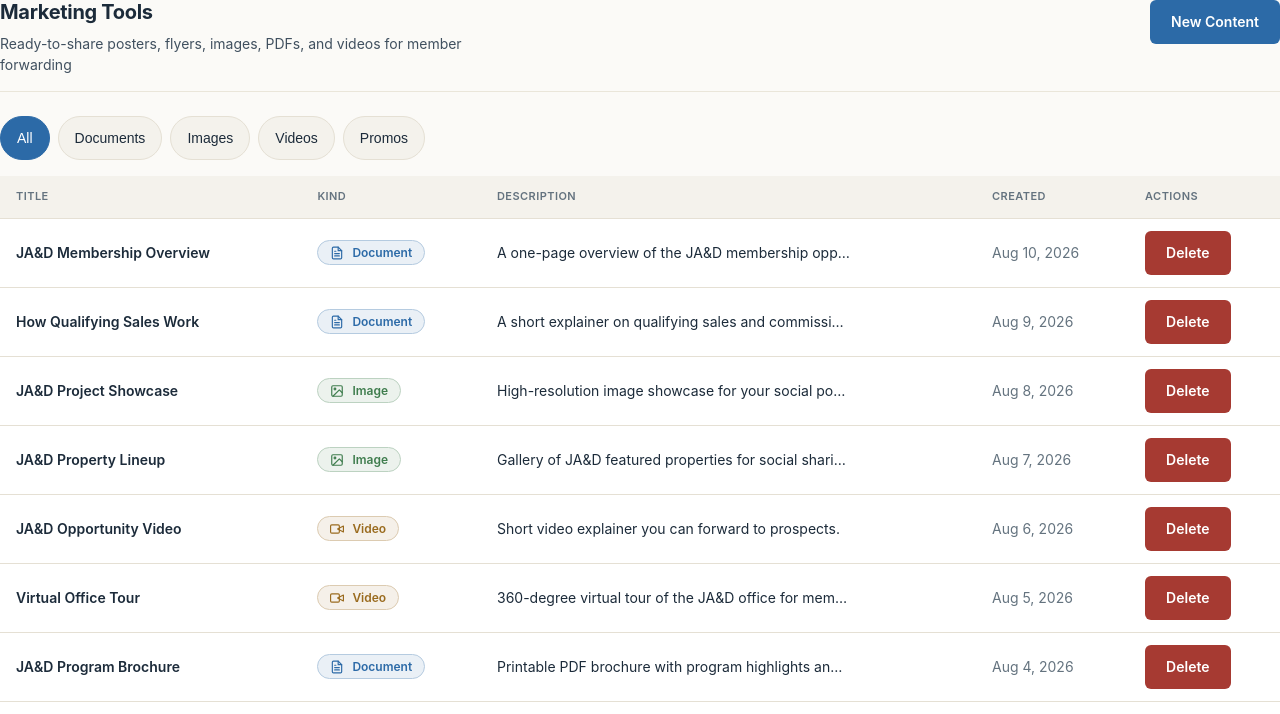
Test case: ContentPage › filters by kind
Expected: the link "JA&D Membership Overview" is shown, x1=16 y1=244 x2=210 y2=261
Step 1. Click the button "Images" → (210, 138), box x1=170 y1=116 x2=250 y2=160
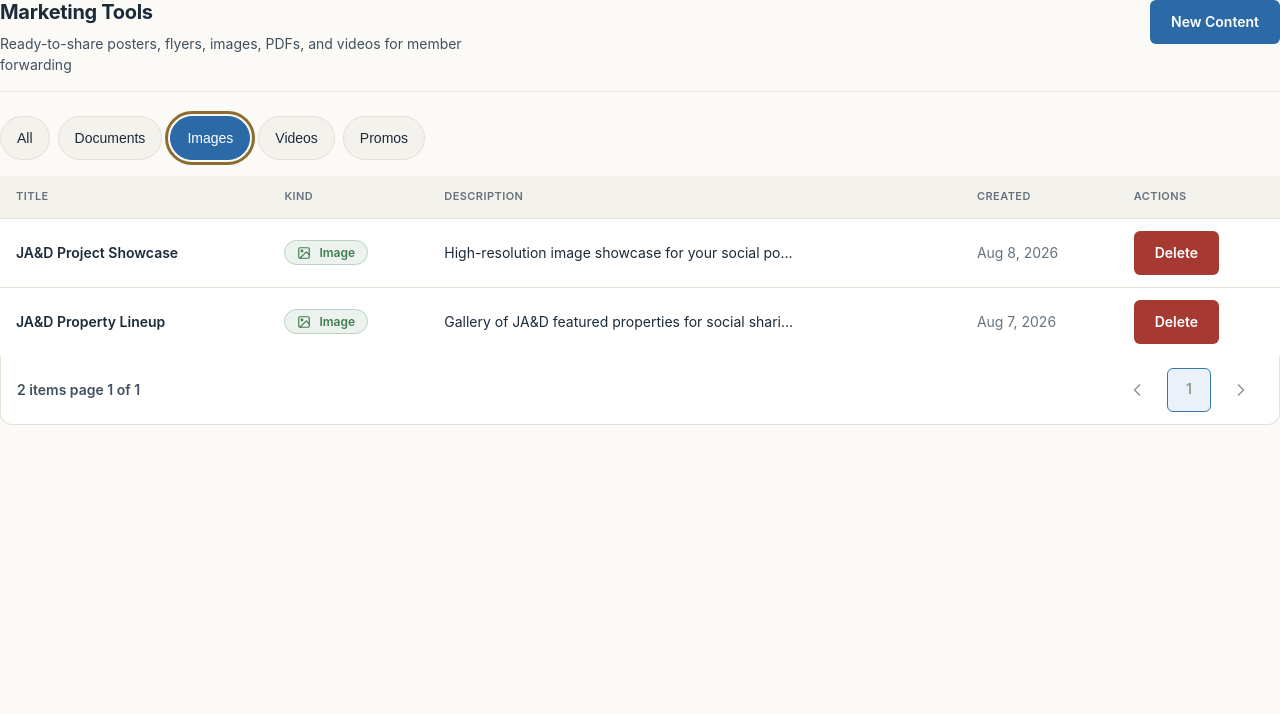
Expected: the link "JA&D Project Showcase" is shown, x1=16 y1=244 x2=178 y2=261
Expected: the link "JA&D Opportunity Video" is gone
Step 2. Click the button "All" → (25, 138), box x1=0 y1=116 x2=50 y2=160
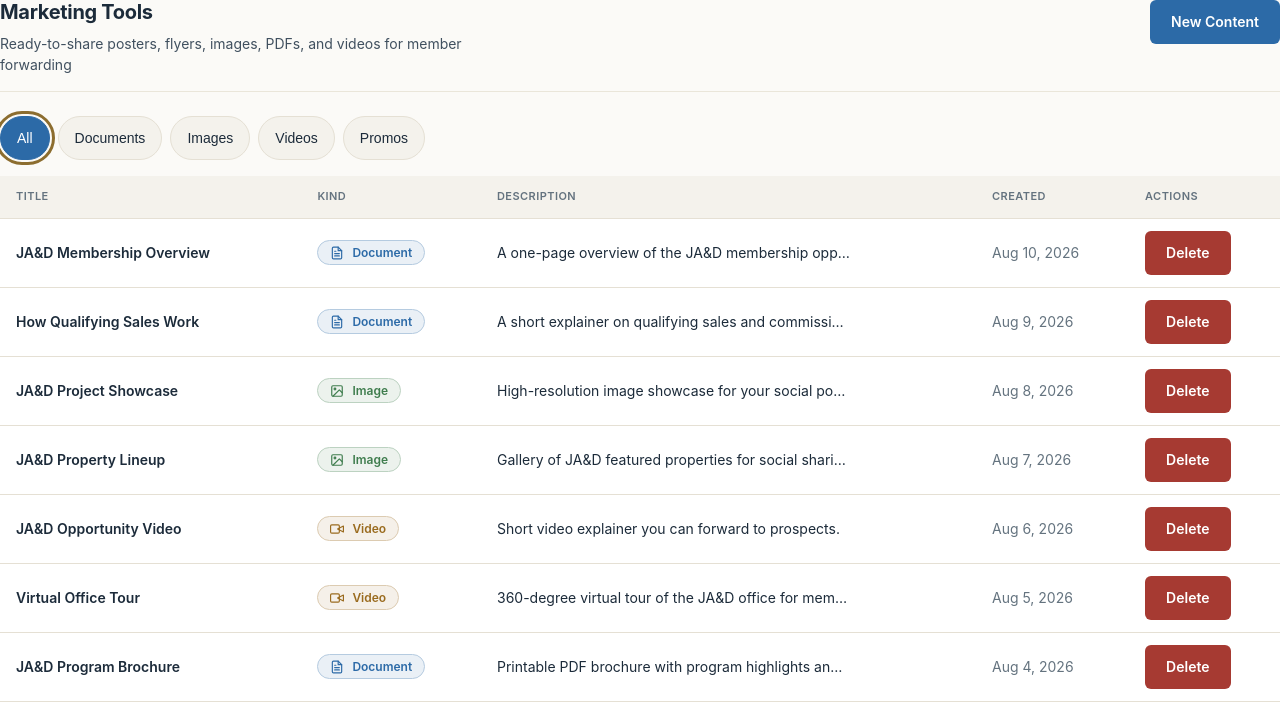
Expected: the link "JA&D Opportunity Video" is shown, x1=16 y1=520 x2=182 y2=537
